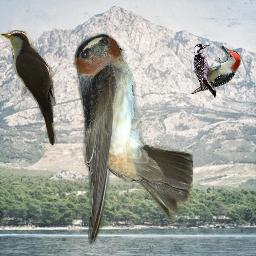Cuckoo: (0, 30, 58, 148)
Swallow: (73, 33, 193, 248)
Woodpecker: (189, 46, 241, 94), (193, 44, 216, 98)
